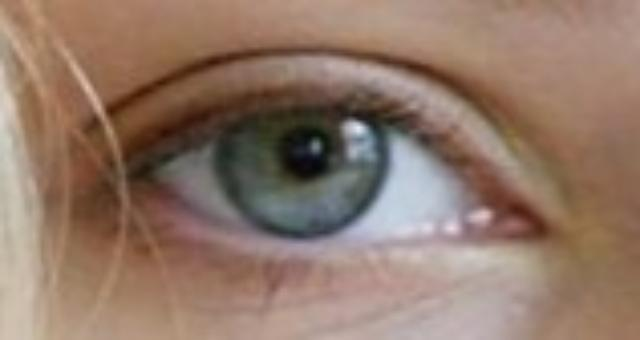eye: (213, 103, 385, 227)
